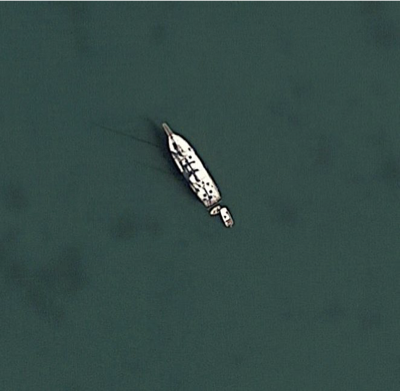boat: (160, 118, 234, 228)
